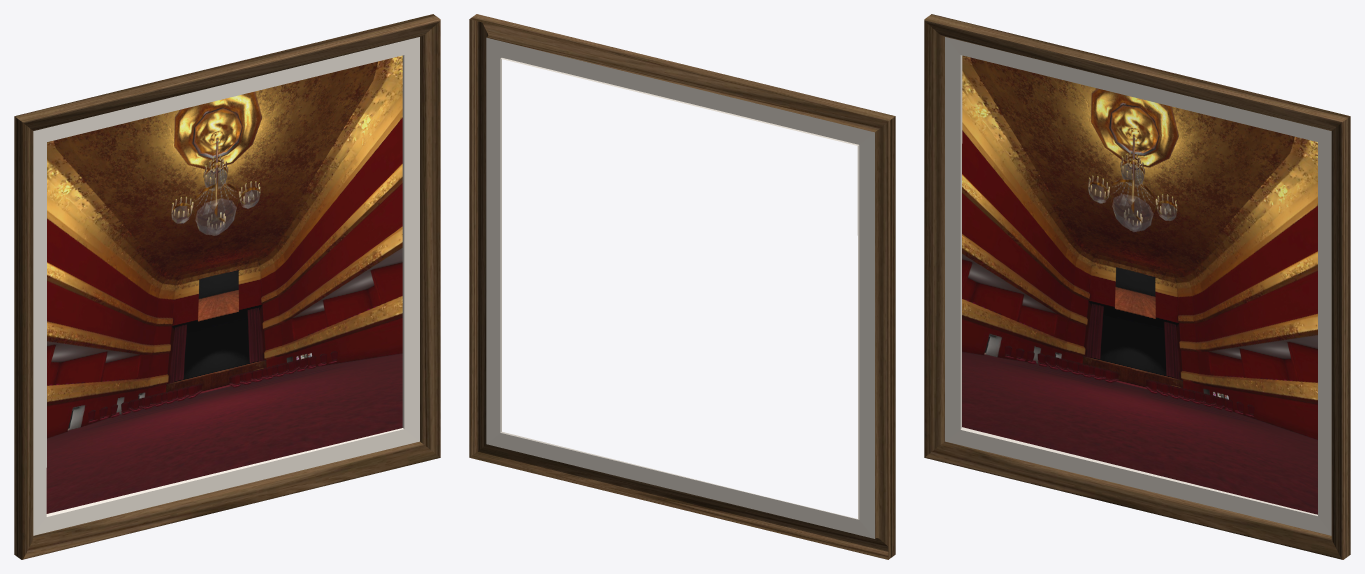
File: artwork04.glb
3 renders of one model, left to right at view 1: azimuth 30°, elevation 25°; view 2: azimuth 150°, elevation 25°; view 3: azimuth 330°, elevation 25°, orthographic.
Visible parts, largest first — view 1: artimage, frame; view 2: frame; view 3: artimage, frame.
Boxes of the visible parts, x1,y1,x2,y2 form: artimage: [46, 55, 402, 513]; frame: [14, 14, 440, 559]; frame: [469, 14, 895, 559]; artimage: [962, 55, 1317, 514]; frame: [924, 14, 1350, 559].
Bounding box in the file's own units: 3.71 × 3.71 × 0.1196.
Materials: 2 (2 with a texture image).
